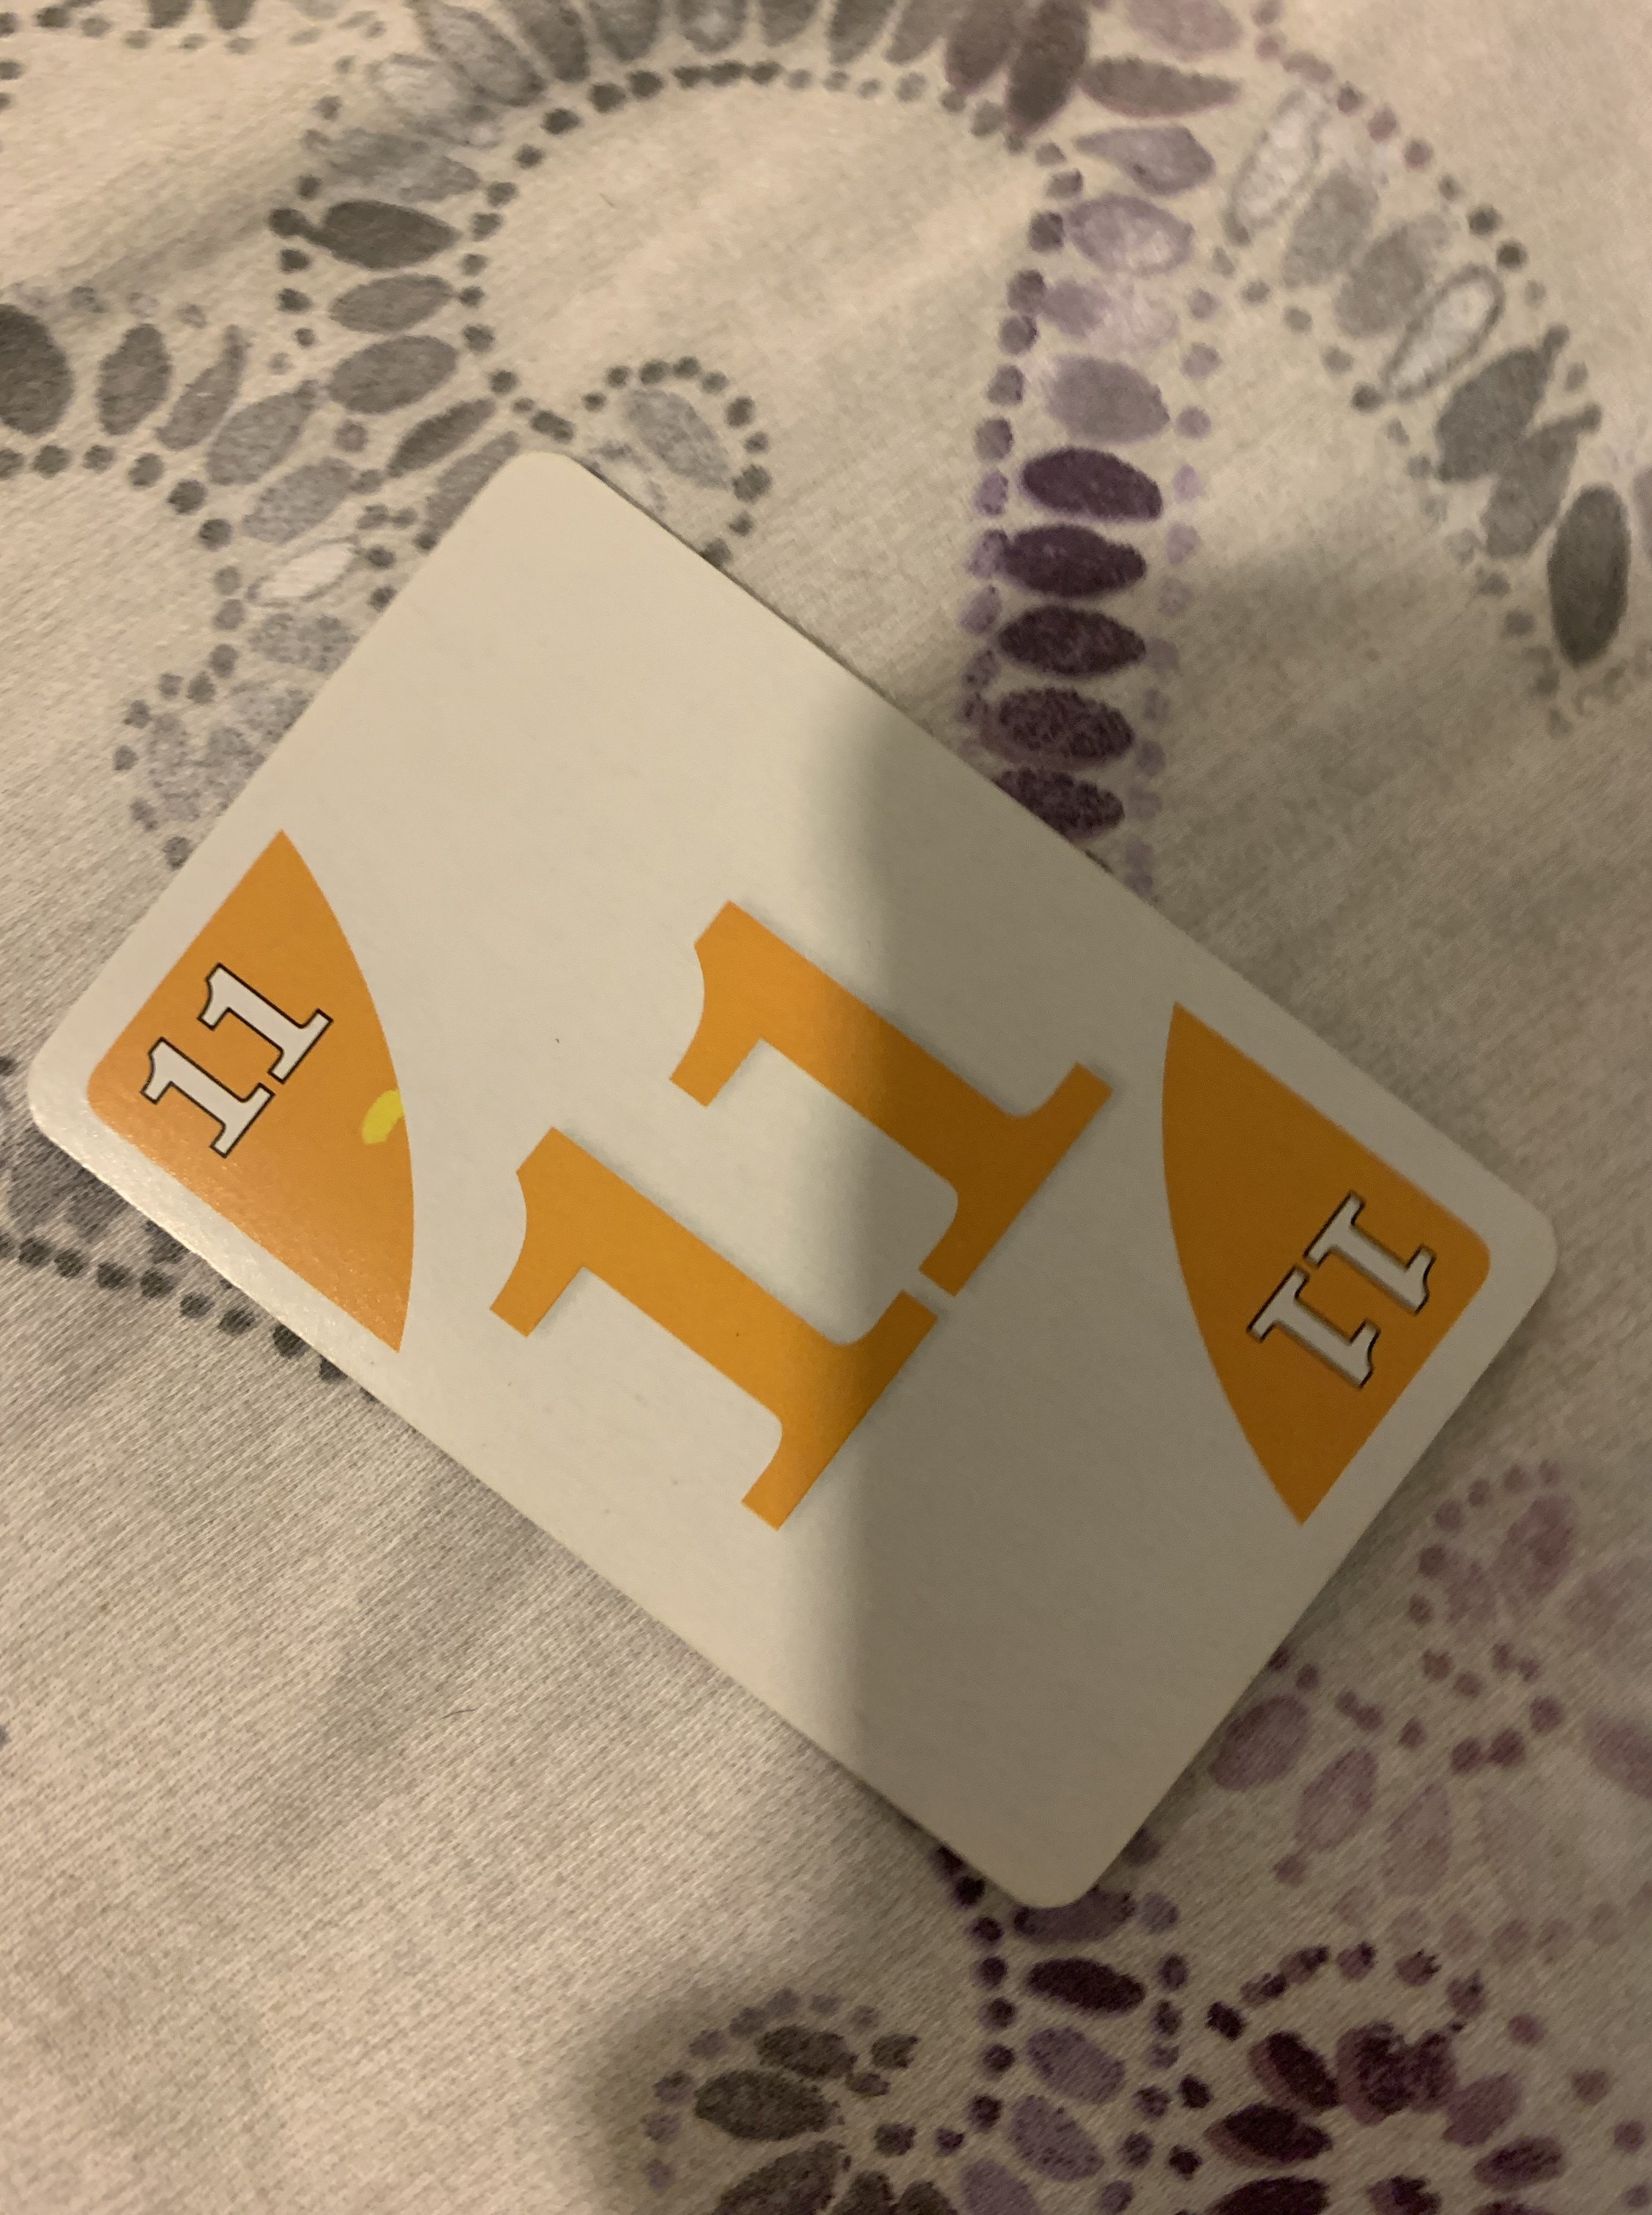eleven: (0, 425, 1558, 1908)
